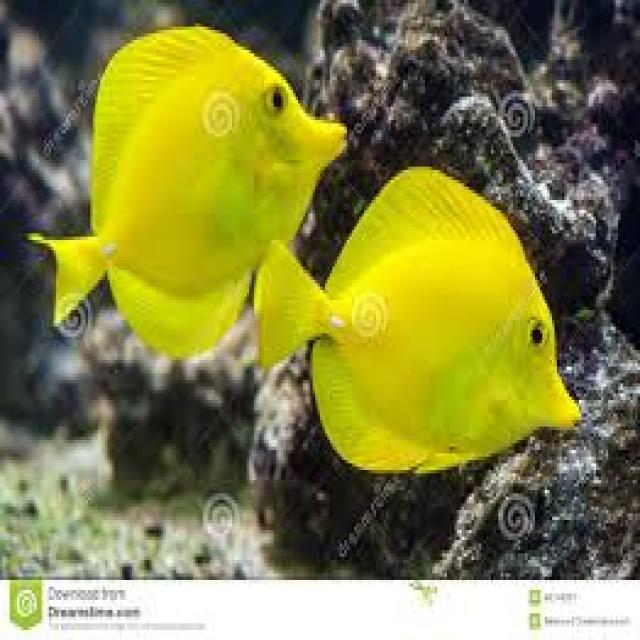YellowTang: (242, 155, 591, 493), (28, 17, 351, 365)
